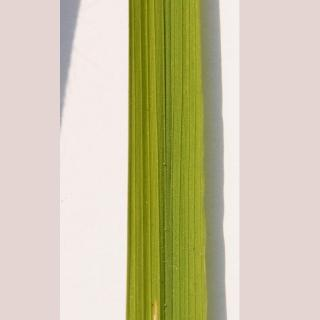Hawar-Daun: (140, 288, 175, 320)
